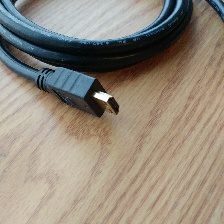hdmi_male: (25, 107, 85, 222), (74, 76, 158, 149)
